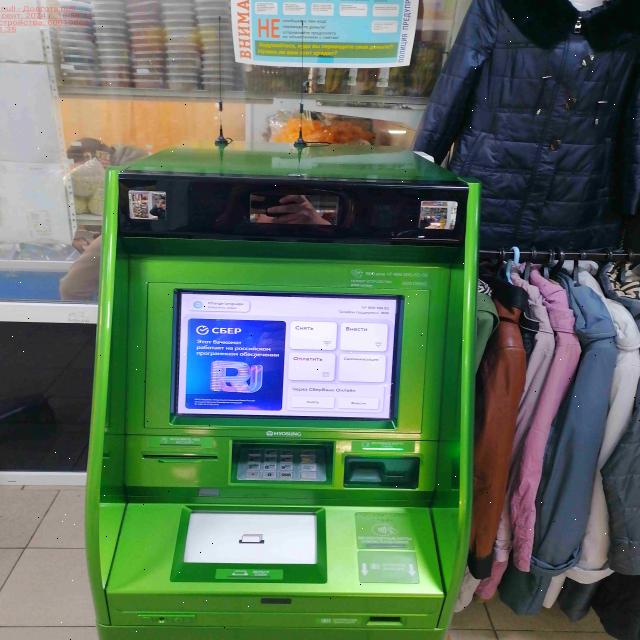bank: (82, 146, 480, 640)
